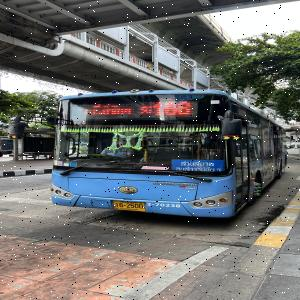BMTA-bus: (51, 90, 288, 219)
Bus Line Number: (152, 98, 194, 118)
Bus Side Number: (145, 200, 184, 209)
Destination Sign: (172, 160, 226, 172)
